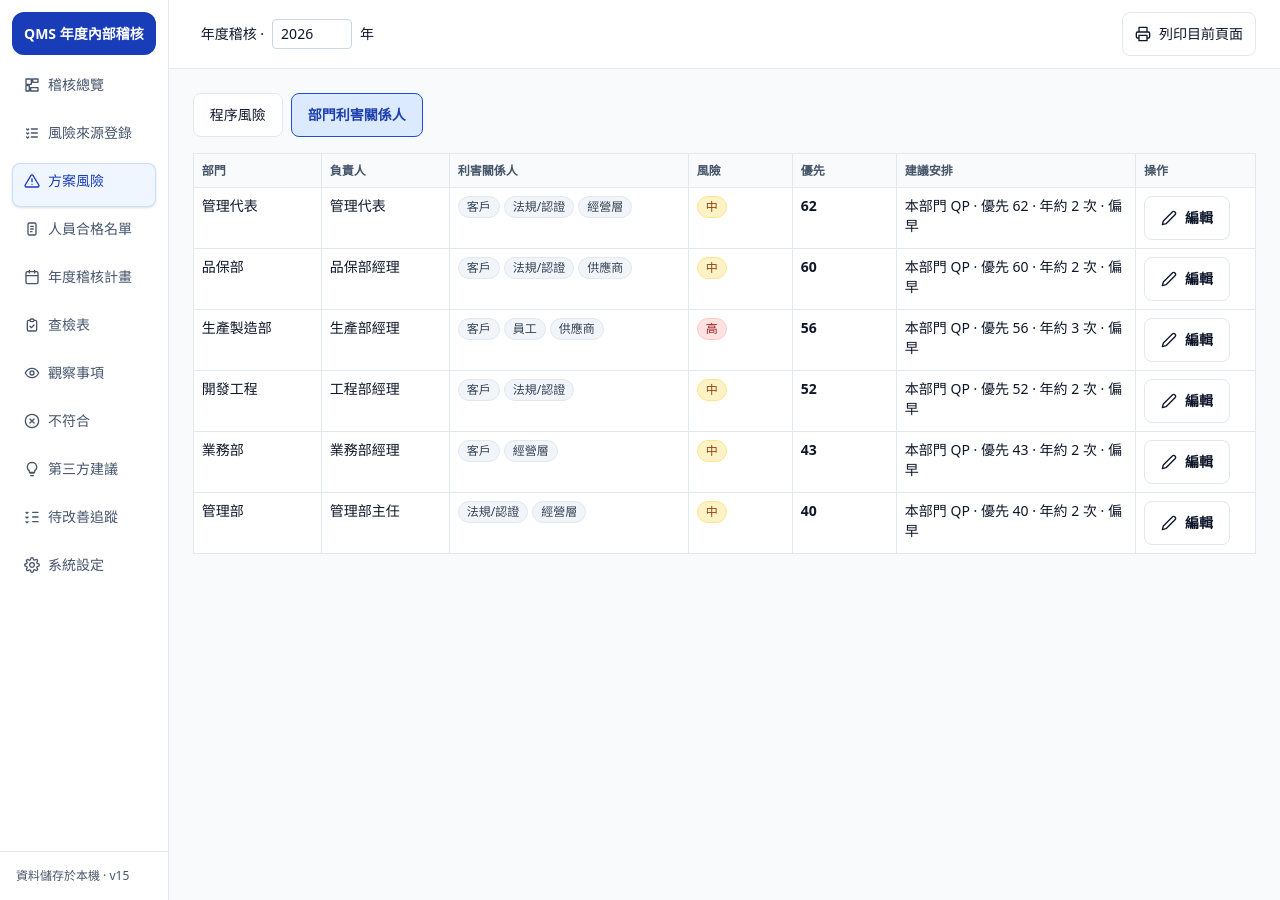
Test case: StakeholdersPage › updates chip and occurrence only in edit dialog
The width and height of the screenshot is (1280, 900).
Expected: the text "管理部" is shown, [202,501,244,521]
Click the button with aria-label "編輯 管理部" at coordinates (1187, 523), box [1144,501,1230,545]
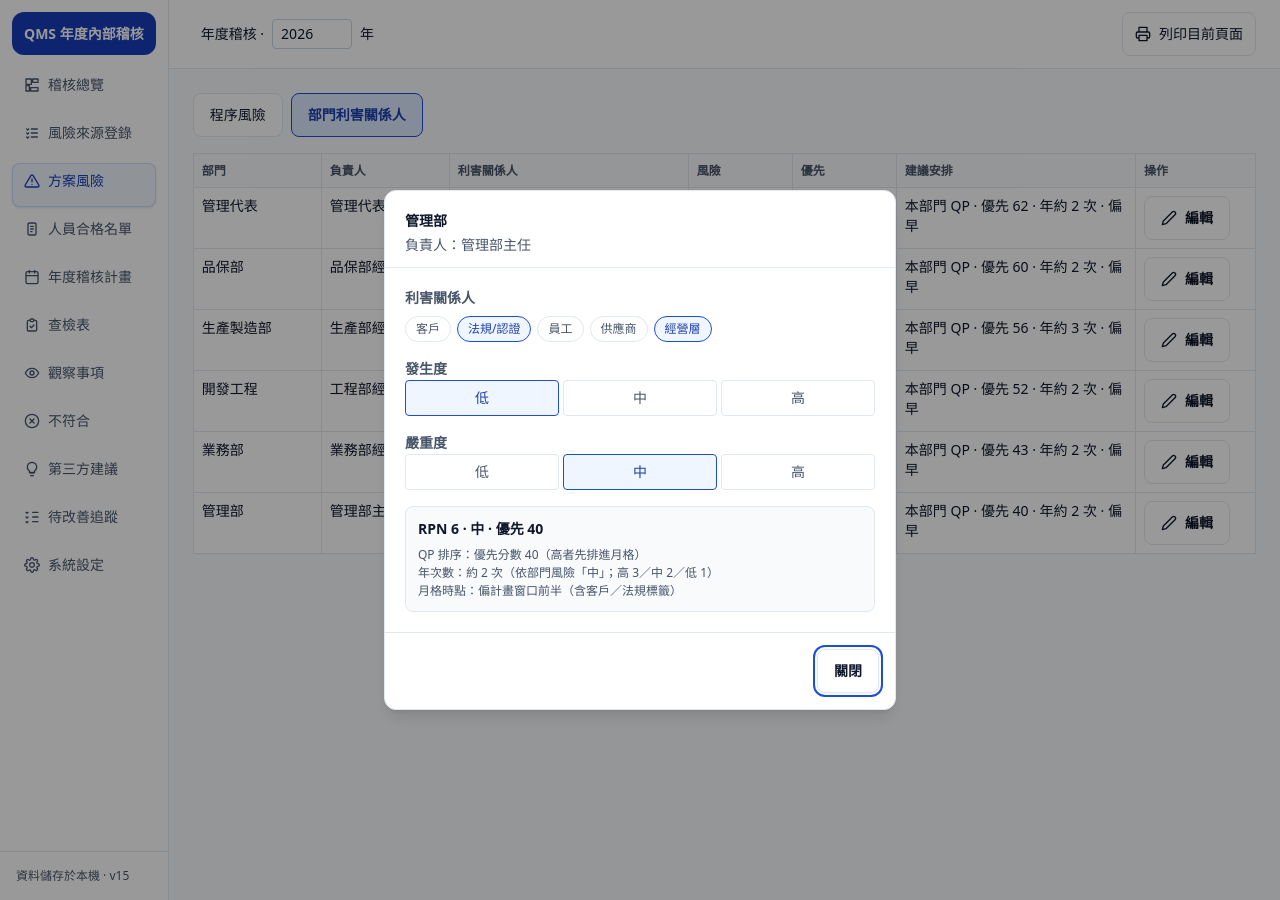
Now the dialog is shown, box [384,190,896,710]
Click the button "供應商" at coordinates (618, 329), box [590,316,648,342]
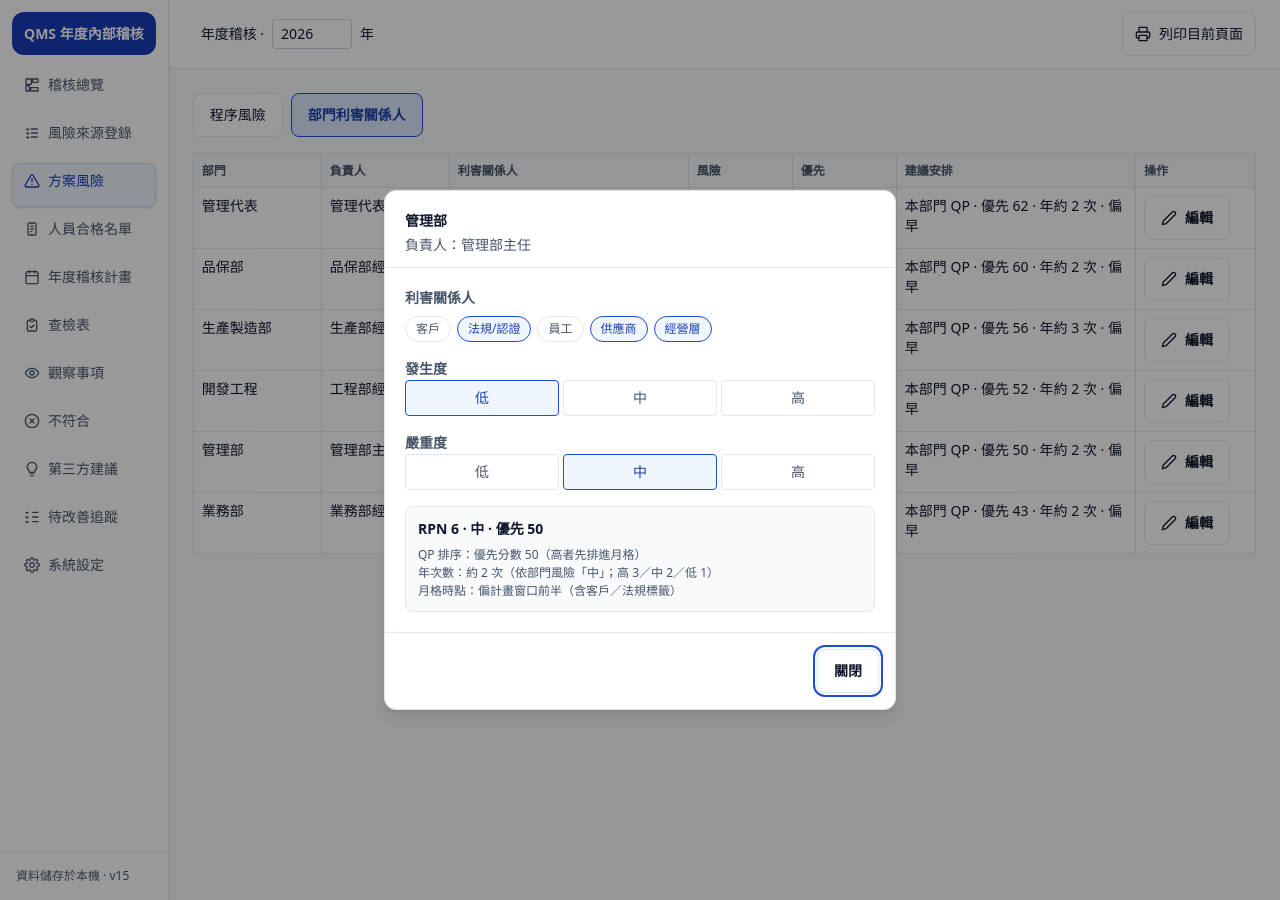
Now the element showing "低 中 高" below "發生度" is shown, box [405,380,875,416]
Click the radio button named "發生度 高：一年多次或持續發生" at coordinates (798, 398), box [721,380,875,416]
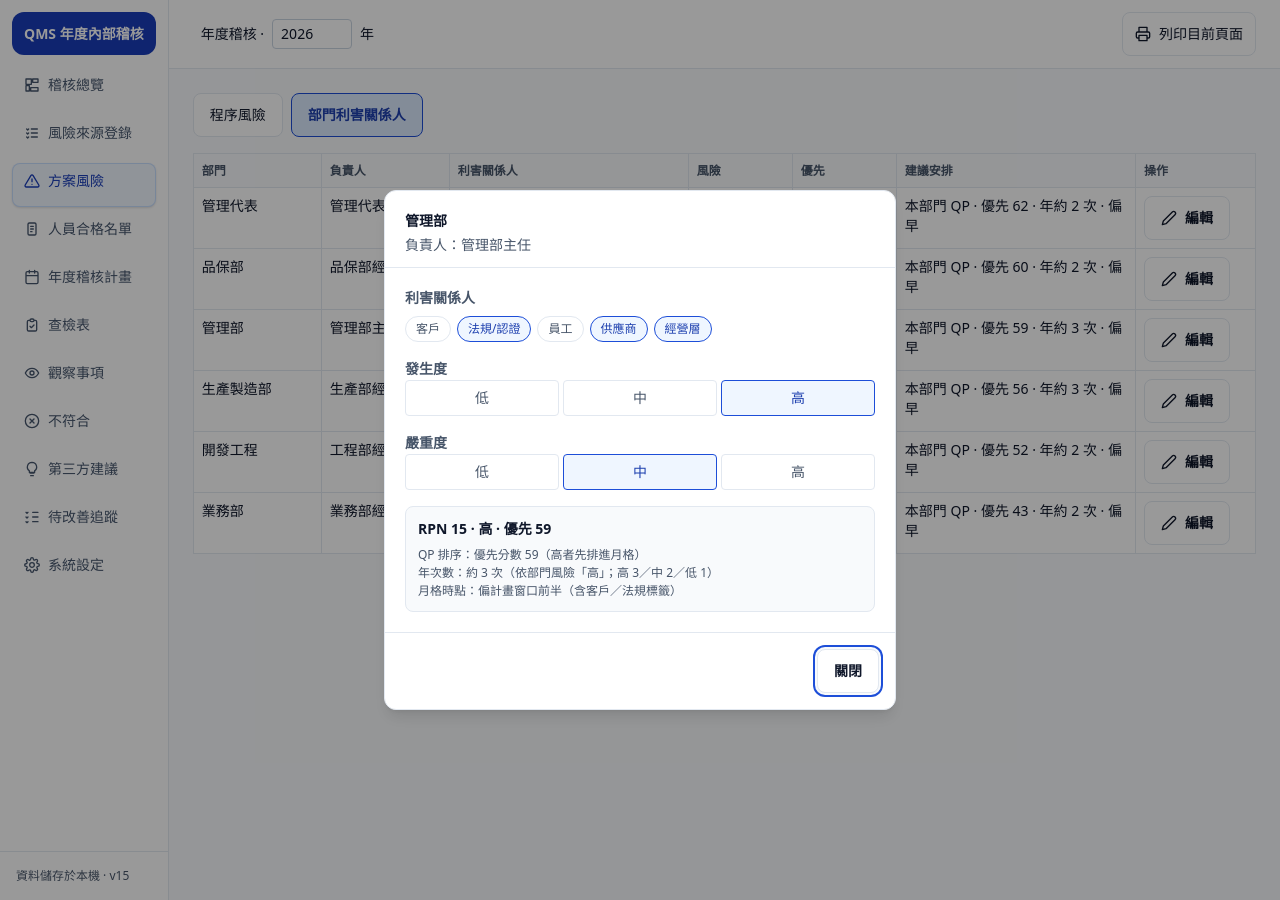
Now the radio button named "發生度 高：一年多次或持續發生" is checked, box [721,380,875,416]
Press Escape
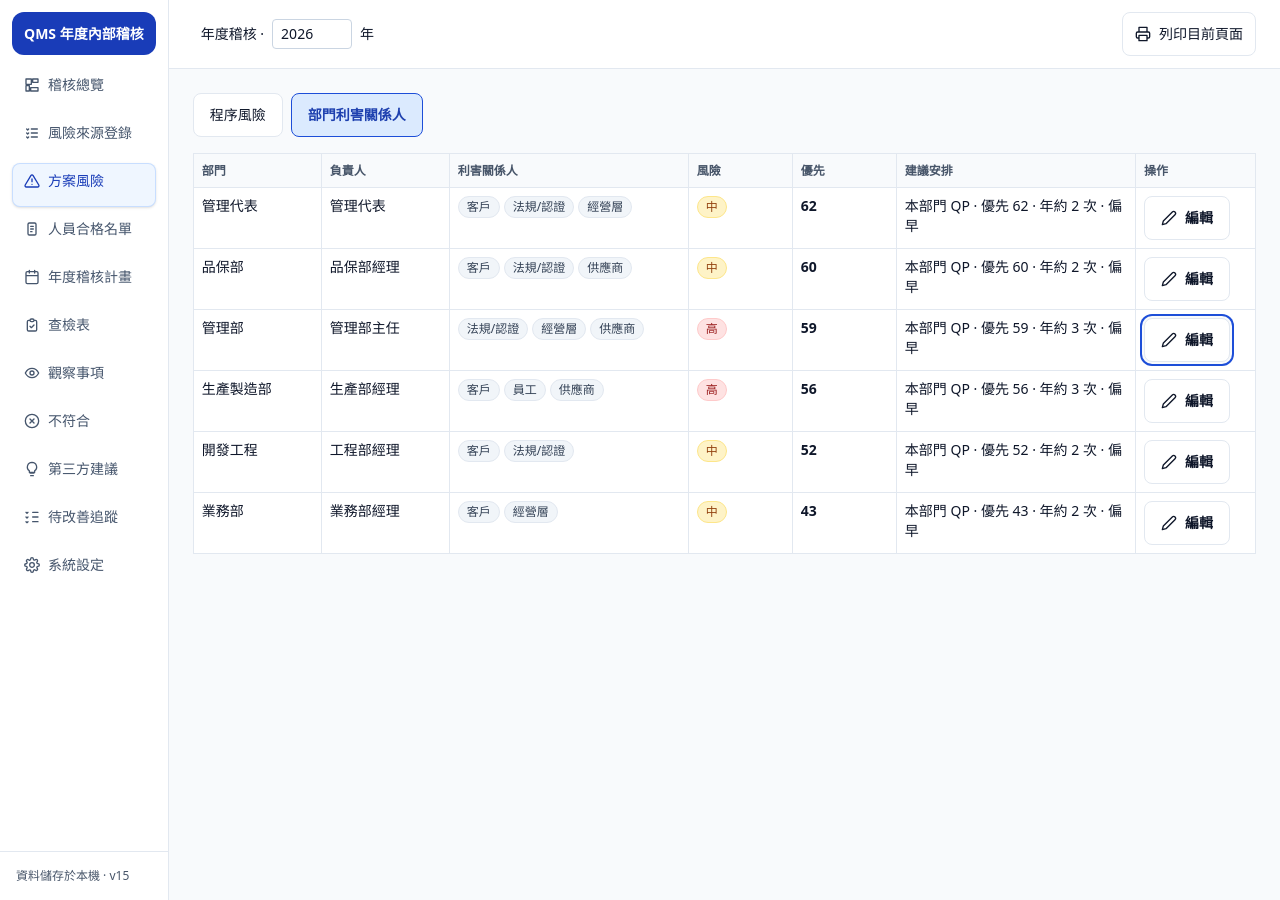
Now the dialog is gone
